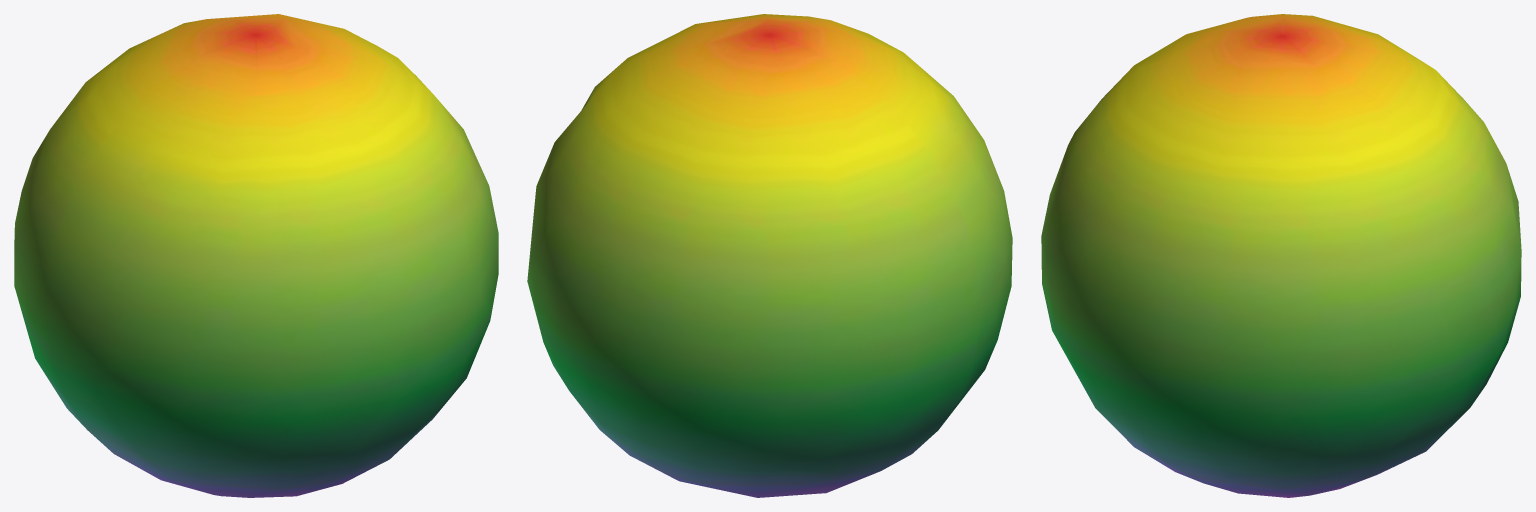
Rendered from bubble.glb.
3 renders of one model, left to right at view 1: azimuth 30°, elevation 25°; view 2: azimuth 150°, elevation 25°; view 3: azimuth 270°, elevation 25°, orthographic.
Parts seen in each view (by area): view 1: Bubble; view 2: Bubble; view 3: Bubble.
Part boxes in pixels (bbox=[...]): Bubble: bbox=[14, 14, 498, 497]; Bubble: bbox=[527, 14, 1012, 497]; Bubble: bbox=[1041, 14, 1521, 497].
Size of the model in its own units: 0.9957 by 1 by 0.9907.
Materials: 1 (1 with a texture image).
